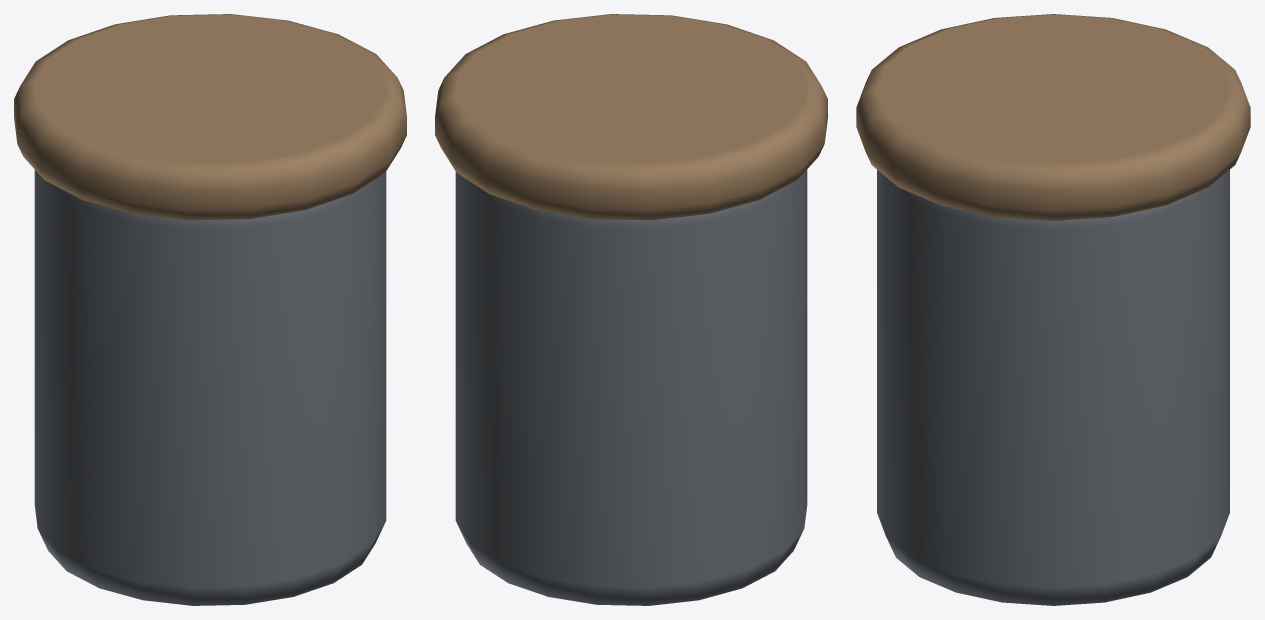
The model's file is bin_civic.29806183182d.glb.
The picture shows the model from 3 angles, left to right: view 1: azimuth 30°, elevation 25°; view 2: azimuth 150°, elevation 25°; view 3: azimuth 270°, elevation 25°; orthographic projection.
Parts seen in each view (by area): view 1: LOD1_BIN_CIVIC_Body, LOD1_BIN_CIVIC_Lid; view 2: LOD1_BIN_CIVIC_Body, LOD1_BIN_CIVIC_Lid; view 3: LOD1_BIN_CIVIC_Body, LOD1_BIN_CIVIC_Lid.
Part boxes in pixels (x1,y1,x2,y2): LOD1_BIN_CIVIC_Body: (34,169,386,605); LOD1_BIN_CIVIC_Lid: (14,14,406,220); LOD1_BIN_CIVIC_Body: (455,169,807,605); LOD1_BIN_CIVIC_Lid: (435,14,827,220); LOD1_BIN_CIVIC_Body: (877,170,1229,605); LOD1_BIN_CIVIC_Lid: (856,14,1250,220).
Size of what is drawn, in the model's own units: 0.76 by 0.97 by 0.76.
